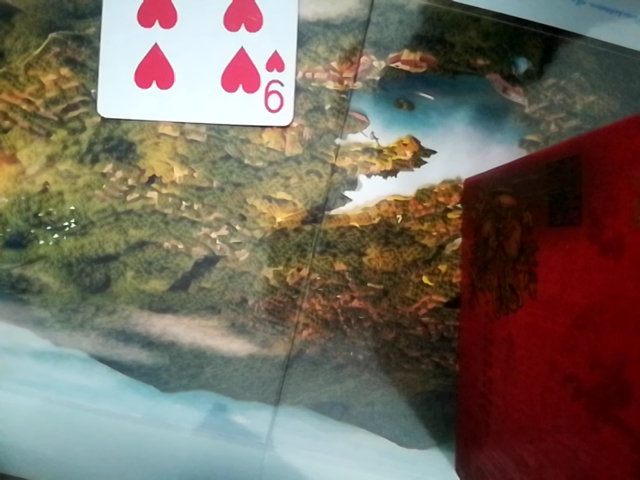hx 9: (88, 0, 303, 132)
